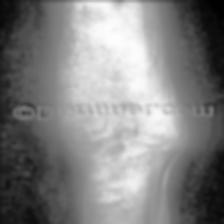Non-Cancerous Skin Condition: (59, 25, 132, 89)
